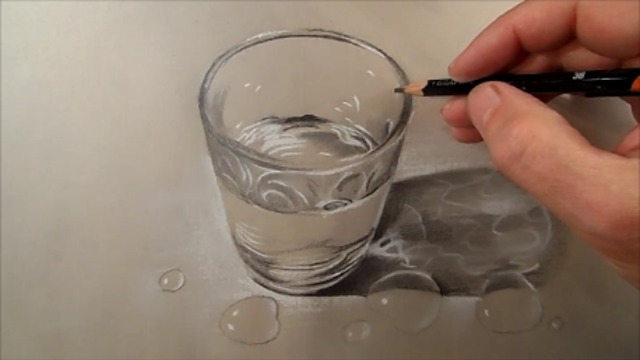glass of water: (218, 53, 382, 292)
